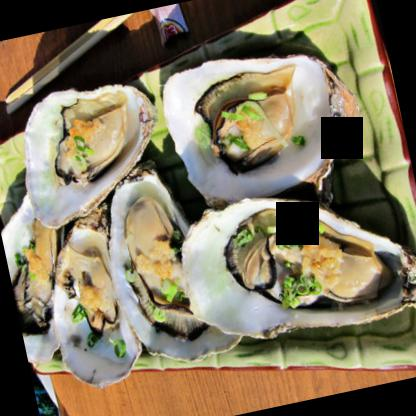oyster: (173, 175, 415, 360), (160, 40, 356, 212), (96, 162, 244, 371), (7, 70, 178, 231), (34, 219, 152, 399), (0, 189, 79, 361)
